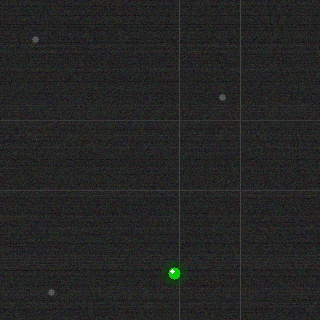green_normal: (166, 265, 182, 281)
